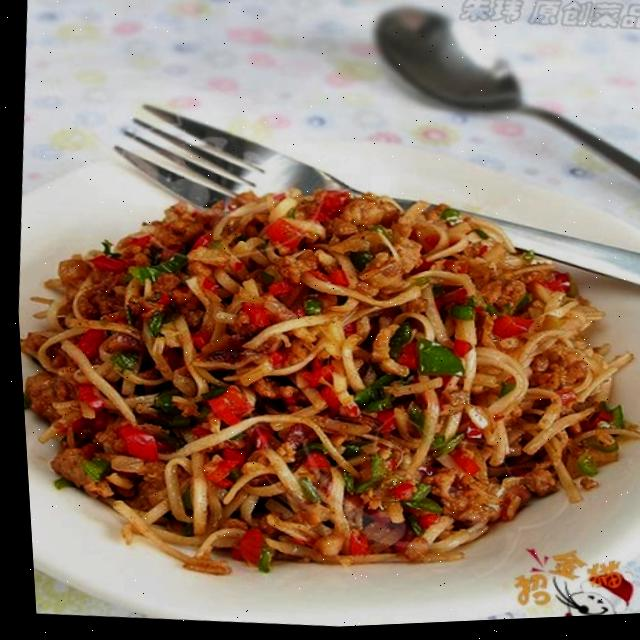面条主食: (7, 128, 640, 607)
